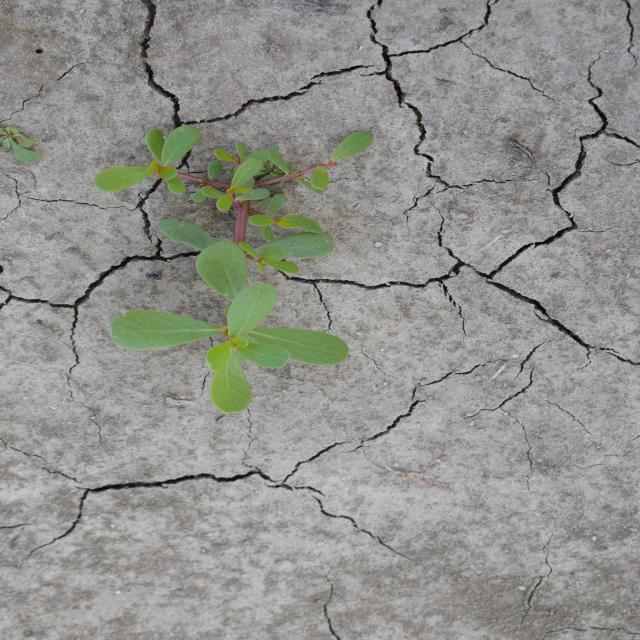Carpetweed: (2, 126, 46, 169)
Purslane: (91, 123, 377, 418)
